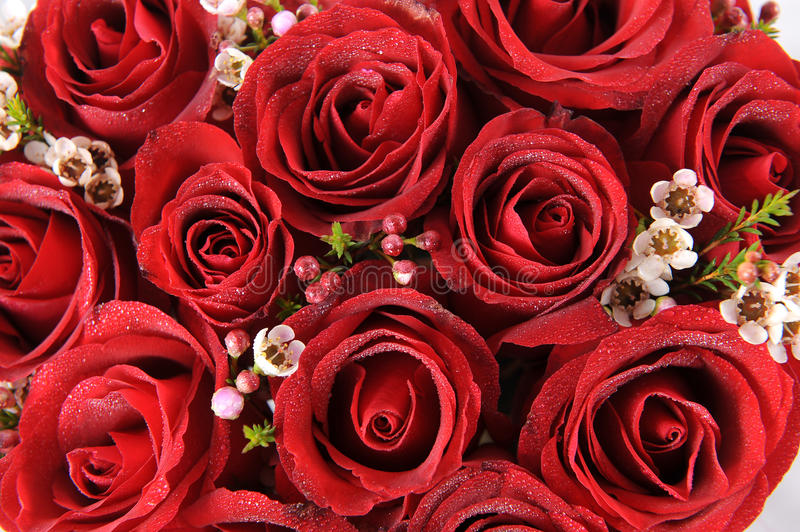RedRose: (527, 297, 798, 532), (262, 253, 500, 501), (231, 6, 471, 230), (0, 302, 228, 530), (410, 0, 723, 124), (442, 114, 636, 302), (121, 123, 298, 321), (659, 29, 800, 256), (11, 0, 229, 144), (0, 151, 114, 391), (388, 449, 595, 532)
